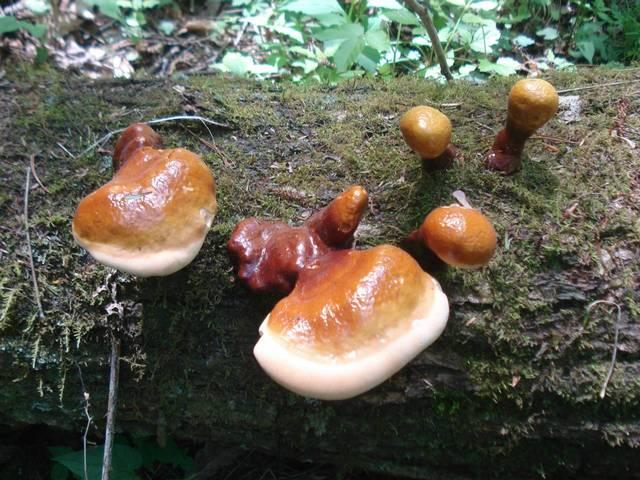Non-edible Mushroom: (225, 183, 450, 401), (70, 121, 218, 278), (483, 76, 559, 174), (398, 104, 452, 159)
